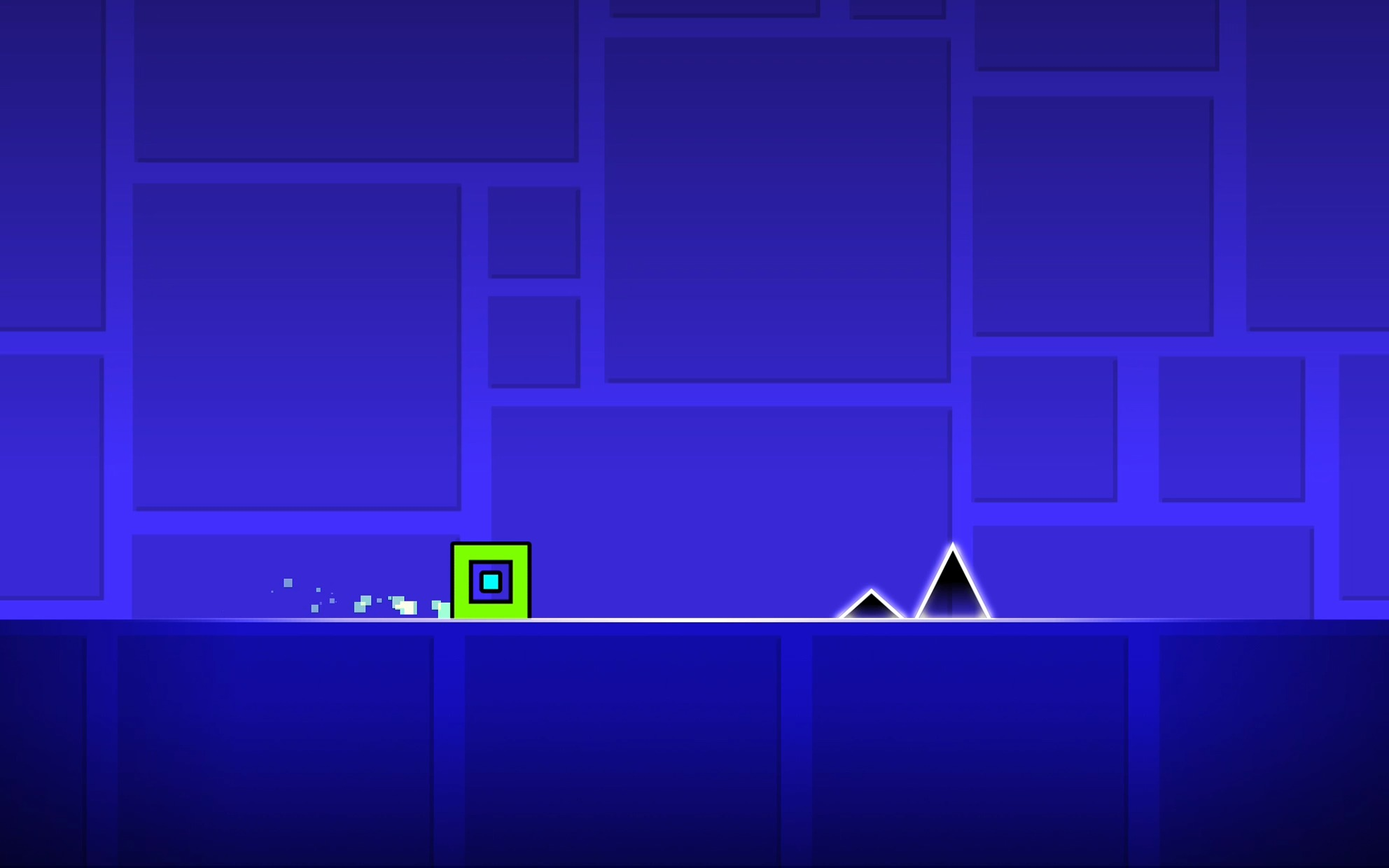Player: (451, 542, 533, 619)
Spike: (916, 543, 991, 617)
Spike2: (839, 589, 903, 618)
